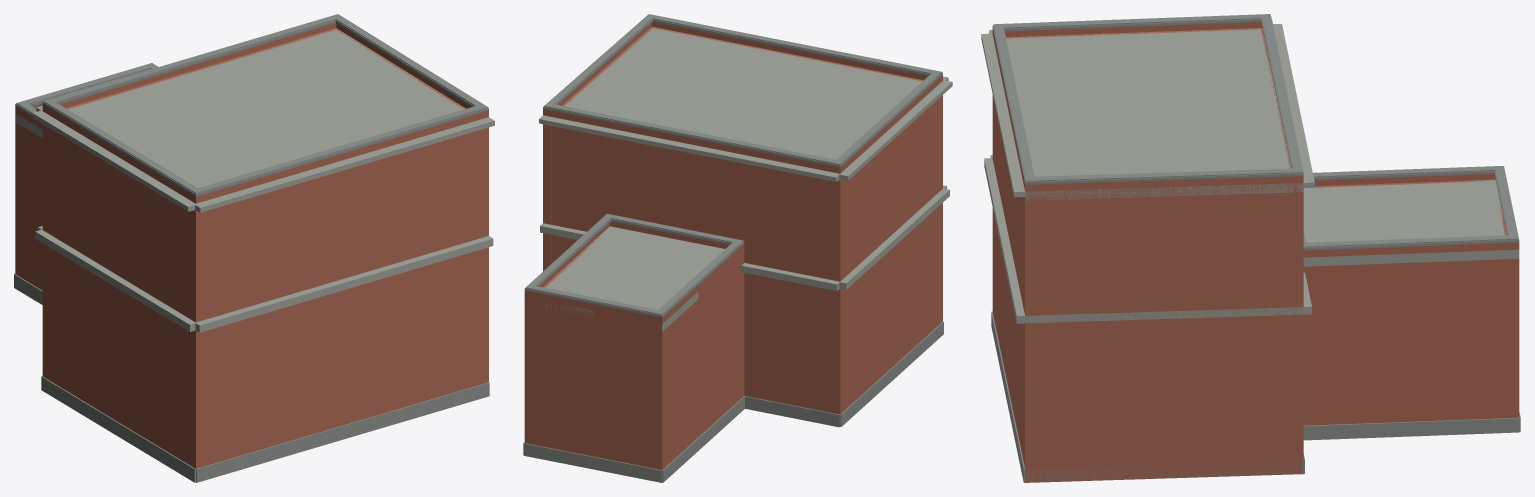
The model's file is masa_1135572.glb.
The picture shows the model from 3 angles, left to right: view 1: azimuth 30°, elevation 25°; view 2: azimuth 150°, elevation 25°; view 3: azimuth 270°, elevation 25°; orthographic projection. The views are drawn at different scales.
Parts seen in each view (by area): view 1: rear:0/edge1/z0/rear:0/edge1/z0/wall_0_0/clip0, rear:0/edge0/z0/rear:0/edge0/z0/wall_0_0, roof/rear:0/roof_slab#0001, roof/rear:0/parapet_cap#0002, roof/rear:0/parapet#0001, rear:0/edge1/z0/plinth#0001, front:0/edge0/z0/front:0/edge0/z0/wall_0_0, rear:0/edge1/z0/floor_slab#0001, rear:0/edge1/z0/top_cornice#0001, roof/rear:0/parapet_cap#0001, rear:0/edge0/z0/plinth#0001, rear:0/edge0/z0/floor_slab#0001 (+3 smaller); view 2: rear:0/edge3/z0/rear:0/edge3/z0/wall_0_0/core0, roof/rear:0/roof_slab#0001, rear:0/edge0/z0/rear:0/edge0/z0/wall_0_0, front:0/edge3/z0/front:0/edge3/z0/wall_0_0, front:0/edge0/z0/front:0/edge0/z0/wall_0_0, roof/front:0/roof_slab#0001, roof/rear:0/parapet_cap#0002, roof/rear:0/parapet#0001, rear:0/edge3/z0/top_cornice#0001/clip1, roof/front:0/parapet_cap#0002, roof/rear:0/parapet_cap#0001, roof/front:0/parapet#0001 (+11 smaller); view 3: rear:0/edge2/z0/rear:0/edge2/z0/wall_0_0/clip0, roof/rear:0/roof_slab#0001, front:0/edge2/z0/front:0/edge2/z0/wall_0_0/core0, roof/front:0/roof_slab#0001, rear:0/edge1/z0/rear:0/edge1/z0/wall_0_0/clip0, roof/rear:0/parapet_cap#0002, roof/rear:0/parapet#0001, front:0/edge2/z0/plinth#0001, roof/rear:0/parapet_cap#0001, roof/front:0/parapet_cap#0002, roof/front:0/parapet#0001, rear:0/edge2/z0/floor_slab#0001 (+10 smaller).
Boxes of the visible parts, <box> form: rear:0/edge1/z0/rear:0/edge1/z0/wall_0_0/clip0: <box>189,127,488,468</box>; rear:0/edge0/z0/rear:0/edge0/z0/wall_0_0: <box>42,124,204,468</box>; roof/rear:0/roof_slab#0001: <box>68,28,465,212</box>; roof/rear:0/parapet_cap#0002: <box>43,14,487,193</box>; roof/rear:0/parapet#0001: <box>42,23,488,203</box>; rear:0/edge1/z0/plinth#0001: <box>196,382,489,482</box>; front:0/edge0/z0/front:0/edge0/z0/wall_0_0: <box>15,122,42,290</box>; rear:0/edge1/z0/floor_slab#0001: <box>195,236,493,332</box>; rear:0/edge1/z0/top_cornice#0001: <box>195,117,494,212</box>; roof/rear:0/parapet_cap#0001: <box>42,20,488,196</box>; rear:0/edge0/z0/plinth#0001: <box>41,376,195,482</box>; rear:0/edge0/z0/floor_slab#0001: <box>35,229,195,331</box>; rear:0/edge3/z0/rear:0/edge3/z0/wall_0_0/core0: <box>552,126,844,412</box>; roof/rear:0/roof_slab#0001: <box>564,27,922,181</box>; rear:0/edge0/z0/rear:0/edge0/z0/wall_0_0: <box>831,95,942,414</box>; front:0/edge3/z0/front:0/edge3/z0/wall_0_0: <box>524,297,663,469</box>; front:0/edge0/z0/front:0/edge0/z0/wall_0_0: <box>653,250,744,469</box>; roof/front:0/roof_slab#0001: <box>535,226,724,331</box>; roof/rear:0/parapet_cap#0002: <box>544,14,941,164</box>; roof/rear:0/parapet#0001: <box>543,22,942,173</box>; rear:0/edge3/z0/top_cornice#0001/clip1: <box>539,115,839,181</box>; roof/front:0/parapet_cap#0002: <box>525,213,743,315</box>; roof/rear:0/parapet_cap#0001: <box>543,19,942,167</box>; roof/front:0/parapet#0001: <box>524,221,744,323</box>; rear:0/edge2/z0/rear:0/edge2/z0/wall_0_0/clip0: <box>1025,183,1303,482</box>; roof/rear:0/roof_slab#0001: <box>1006,28,1303,200</box>; front:0/edge2/z0/front:0/edge2/z0/wall_0_0/core0: <box>1303,258,1519,425</box>; roof/front:0/roof_slab#0001: <box>1303,179,1519,266</box>; rear:0/edge1/z0/rear:0/edge1/z0/wall_0_0/clip0: <box>992,98,1024,466</box>; roof/rear:0/parapet_cap#0002: <box>993,14,1302,181</box>; roof/rear:0/parapet#0001: <box>992,22,1303,191</box>; front:0/edge2/z0/plinth#0001: <box>1303,417,1519,440</box>; roof/rear:0/parapet_cap#0001: <box>992,14,1303,184</box>; roof/front:0/parapet_cap#0002: <box>1303,166,1518,247</box>; roof/front:0/parapet#0001: <box>1303,174,1519,257</box>; rear:0/edge2/z0/floor_slab#0001: <box>1024,307,1304,323</box>.
Size of the model in its own units: 7.31 by 5.96 by 9.66.
